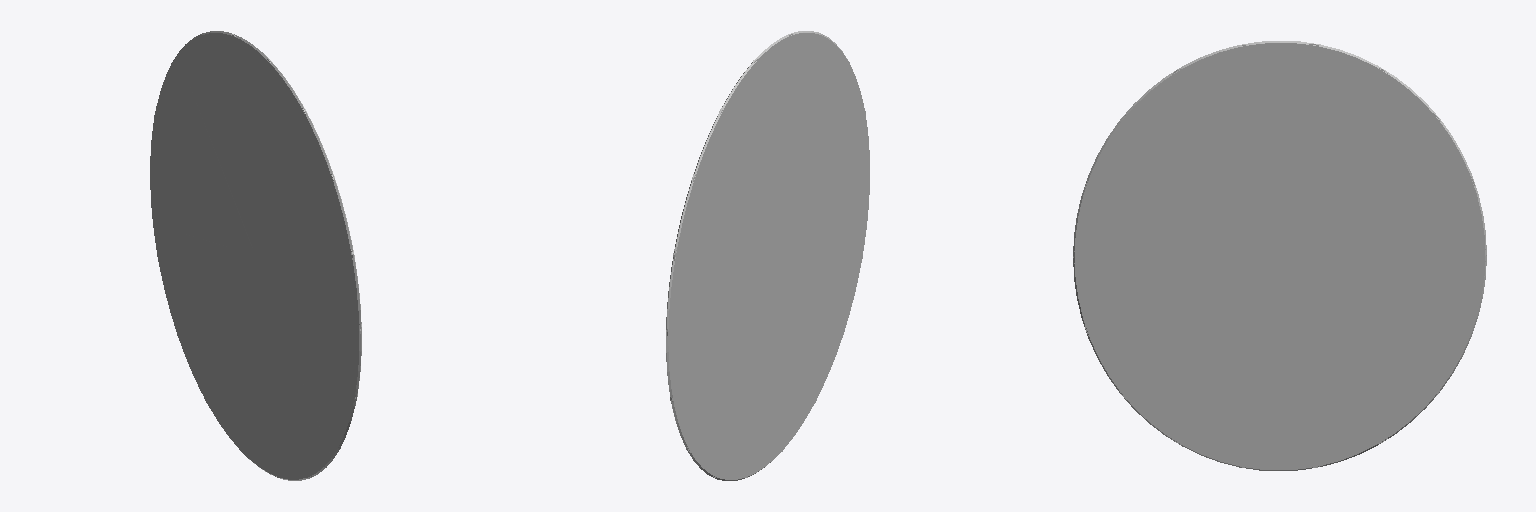
Rendered from Disk.obj.
3 views of the same model, side by side, from view 1: azimuth 30°, elevation 25°; view 2: azimuth 150°, elevation 25°; view 3: azimuth 270°, elevation 25° (orthographic).
Visible parts, largest first — view 1: uploads_files_[number redacted]_gramophone_disk.002; view 2: uploads_files_[number redacted]_gramophone_disk.002; view 3: uploads_files_[number redacted]_gramophone_disk.002.
Part boxes in pixels (left/top/right/bottom): uploads_files_[number redacted]_gramophone_disk.002: left=150, top=31, right=361, bottom=480; uploads_files_[number redacted]_gramophone_disk.002: left=666, top=31, right=869, bottom=480; uploads_files_[number redacted]_gramophone_disk.002: left=1073, top=41, right=1486, bottom=470.
Bounding box in the file's own units: 0.0312 × 1.07 × 0.9412.